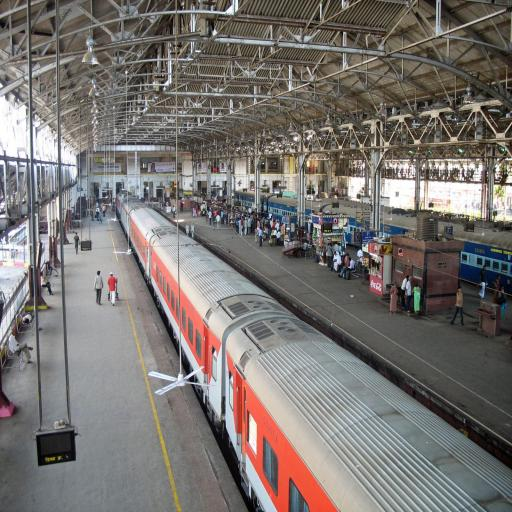platform_edge: (104, 250, 254, 512)
